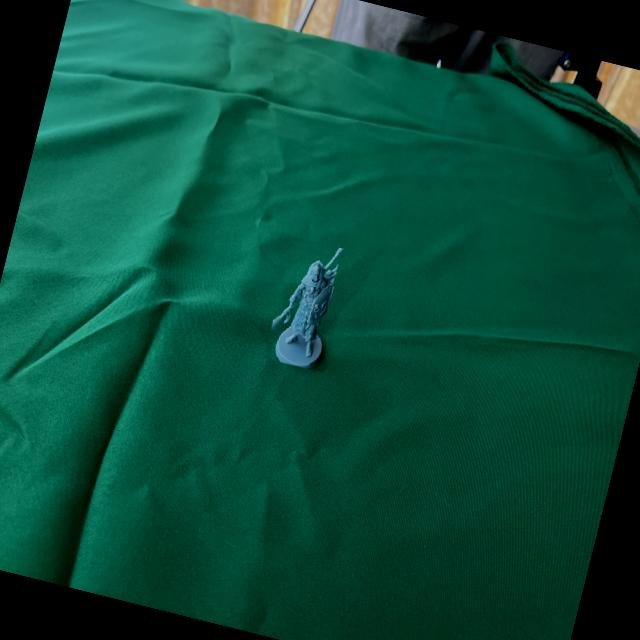isis_follower: (262, 236, 354, 373)
